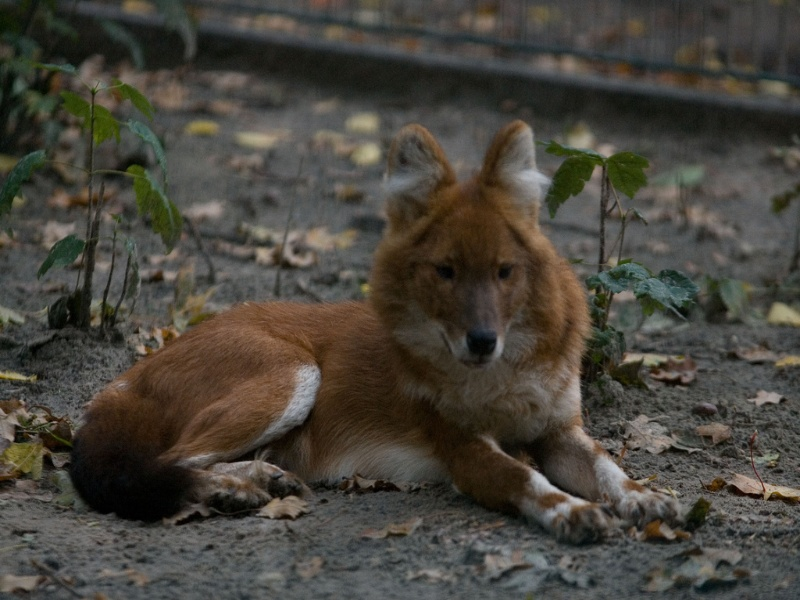fox: (71, 115, 679, 546)
